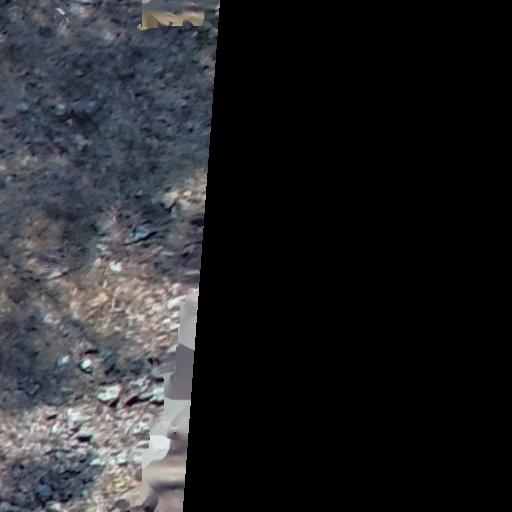stone: (4, 276, 33, 305), (66, 4, 98, 26), (28, 6, 56, 30), (66, 409, 91, 430), (122, 372, 148, 392), (131, 221, 157, 240), (76, 100, 100, 120), (92, 216, 114, 236), (32, 481, 54, 498), (106, 259, 127, 276), (52, 99, 72, 116), (42, 500, 70, 512), (166, 294, 186, 310), (154, 113, 176, 127), (102, 384, 117, 404), (132, 421, 150, 437), (42, 310, 61, 325), (81, 354, 96, 372), (124, 394, 144, 407), (44, 447, 70, 457), (15, 103, 32, 118), (24, 382, 40, 396), (160, 316, 176, 330), (149, 388, 163, 403), (114, 450, 128, 465), (10, 465, 25, 479), (46, 269, 64, 280), (72, 134, 86, 148), (54, 351, 69, 364), (147, 356, 163, 368), (76, 433, 93, 443), (183, 268, 200, 278), (50, 422, 62, 436), (122, 422, 134, 436), (89, 458, 105, 468), (83, 348, 100, 356), (150, 375, 165, 383), (74, 68, 85, 78), (45, 412, 58, 420), (79, 489, 89, 499), (135, 188, 144, 198), (187, 124, 195, 134)
